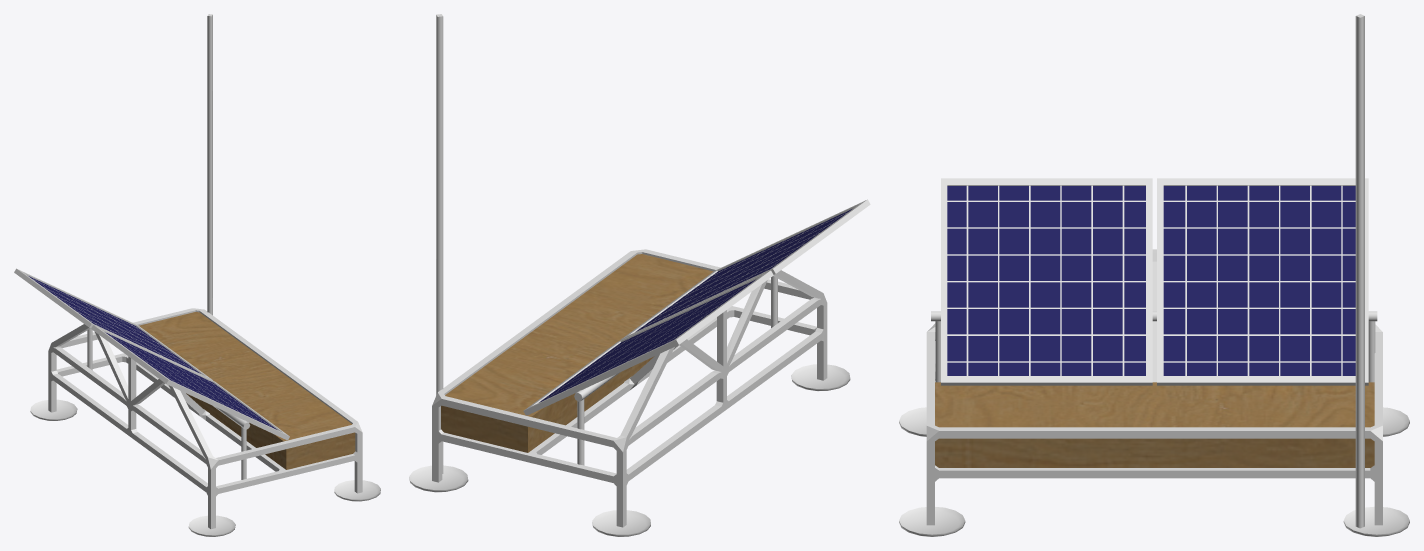
Rendered from solar-array.fbx.
3 views of the same model, side by side, from view 1: azimuth 30°, elevation 25°; view 2: azimuth 150°, elevation 25°; view 3: azimuth 270°, elevation 25° (orthographic). The views are drawn at different scales.
Parts seen in each view (by area): view 1: Cube.034; view 2: Cube.034; view 3: Cube.034.
Boxes of the visible parts, <box> form: Cube.034: <box>14,14,380,536</box>; Cube.034: <box>409,14,870,536</box>; Cube.034: <box>899,14,1409,536</box>.
Bounding box in the file's own units: 162 × 270 × 244.
